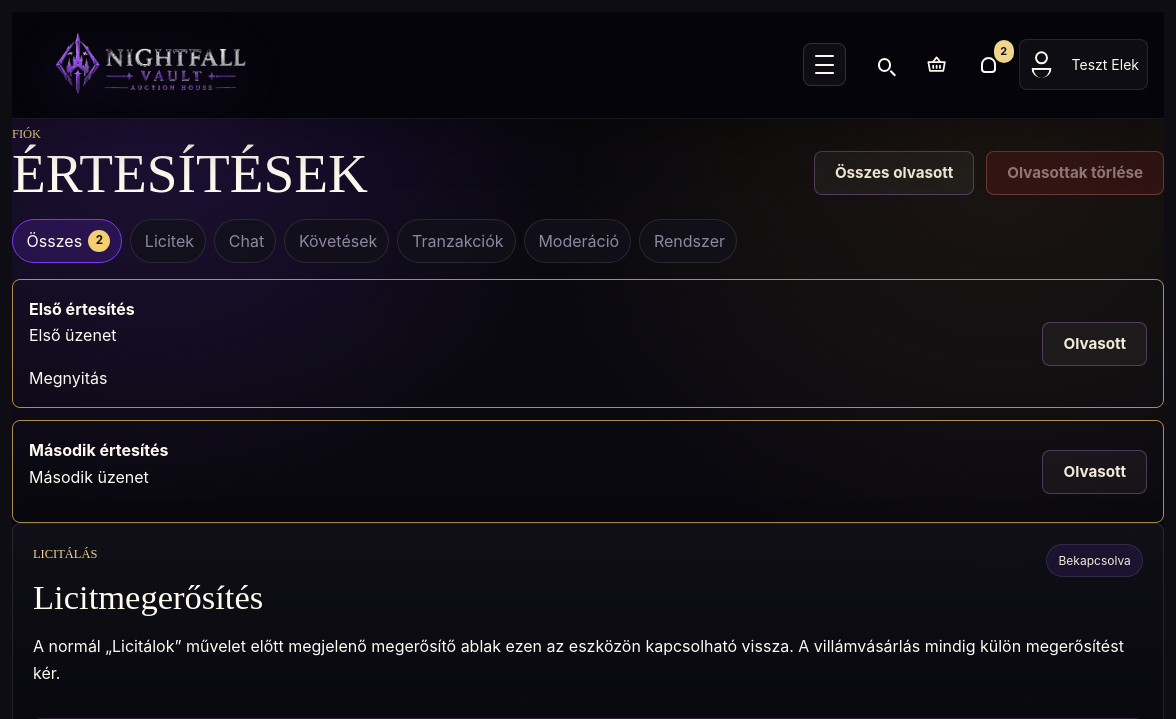
it: NotificationsPage › azonnal olvasottra állítja a sort és frissíti a fejléc számlálóját
Expected: the link named "Értesítések, 2 olvasatlan" is shown, [967,43,1011,87]
Click the button "Olvasott" in the row of "Első üzenet" at (1095, 344), box [1042,322,1147,366]
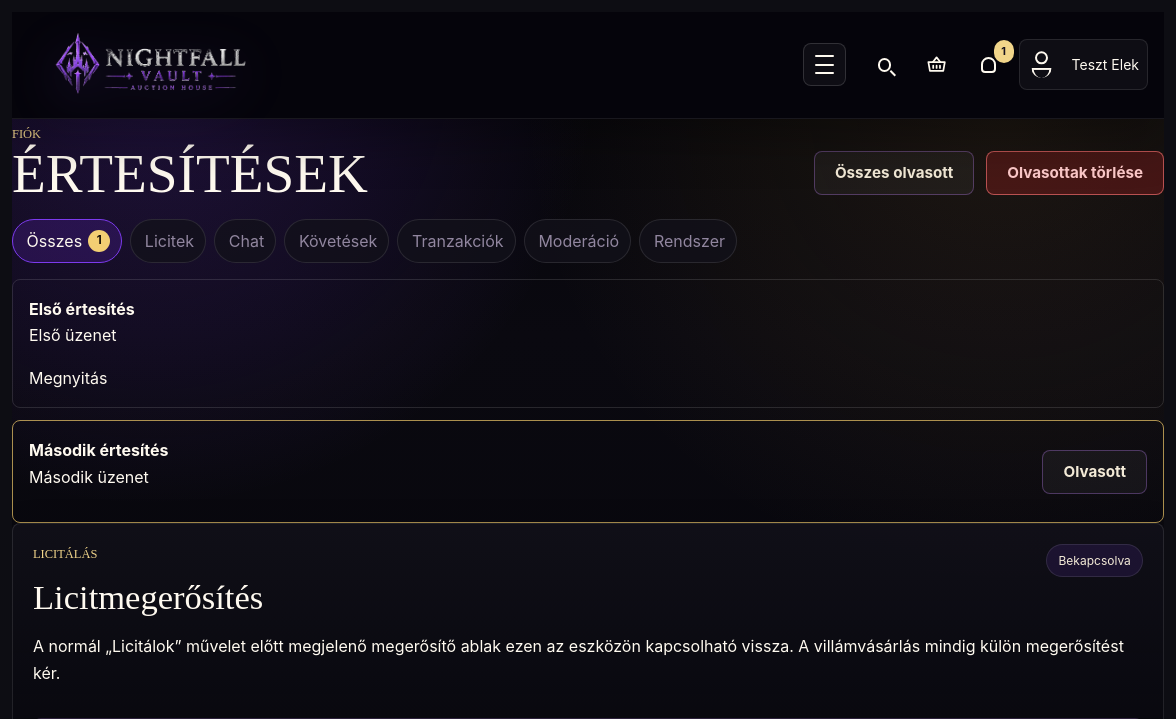
Expected: the number of buttons "Olvasott" is 1, [1042,450,1147,494]
Expected: the link named "Értesítések, 1 olvasatlan" is shown, [967,43,1011,87]
